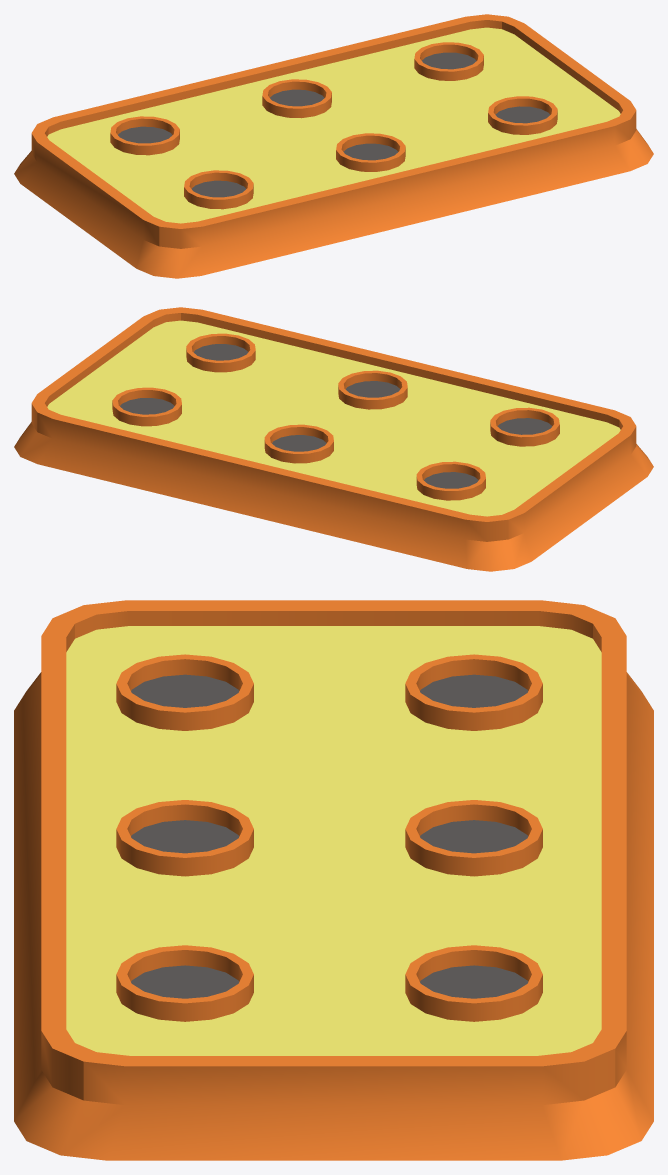
Rendered from Obstacle 27 V3.fbx.
3 renders of one model, top to bottom at view 1: azimuth 30°, elevation 25°; view 2: azimuth 150°, elevation 25°; view 3: azimuth 270°, elevation 25°, orthographic. The views are drawn at different scales.
Visible parts, largest first — view 1: 027 Part 1; view 2: 027 Part 1; view 3: 027 Part 1.
Boxes of the visible parts, x1,y1,x2,y2 form: 027 Part 1: (14,14,653,278); 027 Part 1: (14,307,653,571); 027 Part 1: (14,600,653,1160).
Size of the model in its own units: 249 by 20.48 by 138.
1 material, 1 textured.
